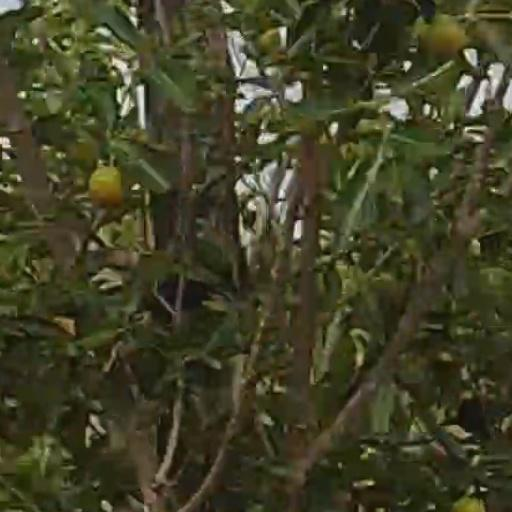acerola: (421, 18, 465, 56), (88, 168, 124, 208)
